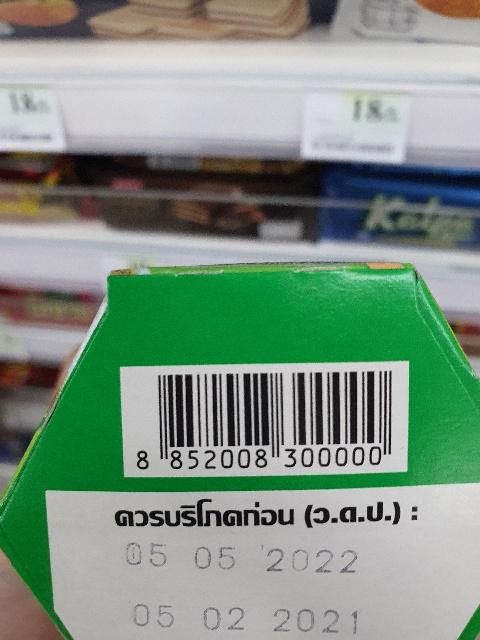Barcode: (123, 360, 407, 477)
